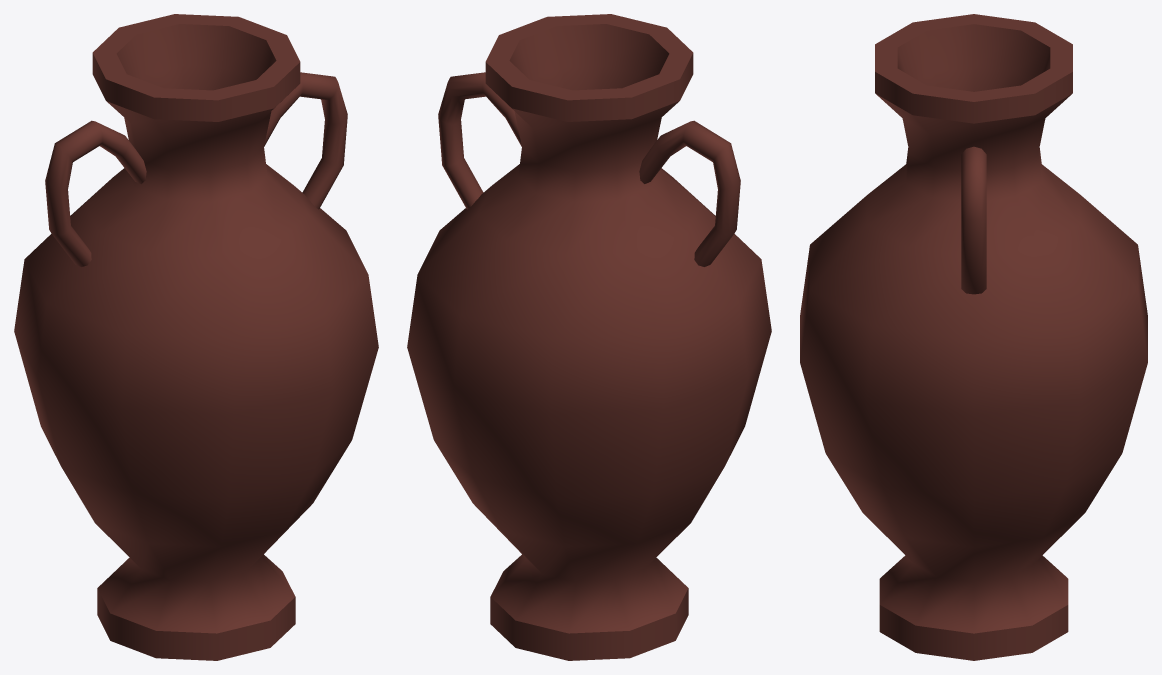
Rendered from PotTall.fbx.
The picture shows the model from 3 angles, left to right: view 1: azimuth 30°, elevation 25°; view 2: azimuth 150°, elevation 25°; view 3: azimuth 270°, elevation 25°; orthographic projection.
Visible parts, largest first — view 1: Tall; view 2: Tall; view 3: Tall.
Part boxes in pixels (box(x1,y1,x2,y2)): Tall: box(14, 14, 378, 660); Tall: box(407, 14, 771, 660); Tall: box(800, 14, 1147, 660).
Size of the model in its own units: 1.38 by 2.33 by 1.31.
